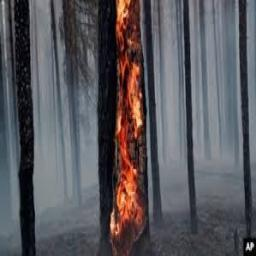Low smoke: (153, 3, 255, 234), (1, 1, 96, 240)
Small fire: (93, 0, 149, 250)
